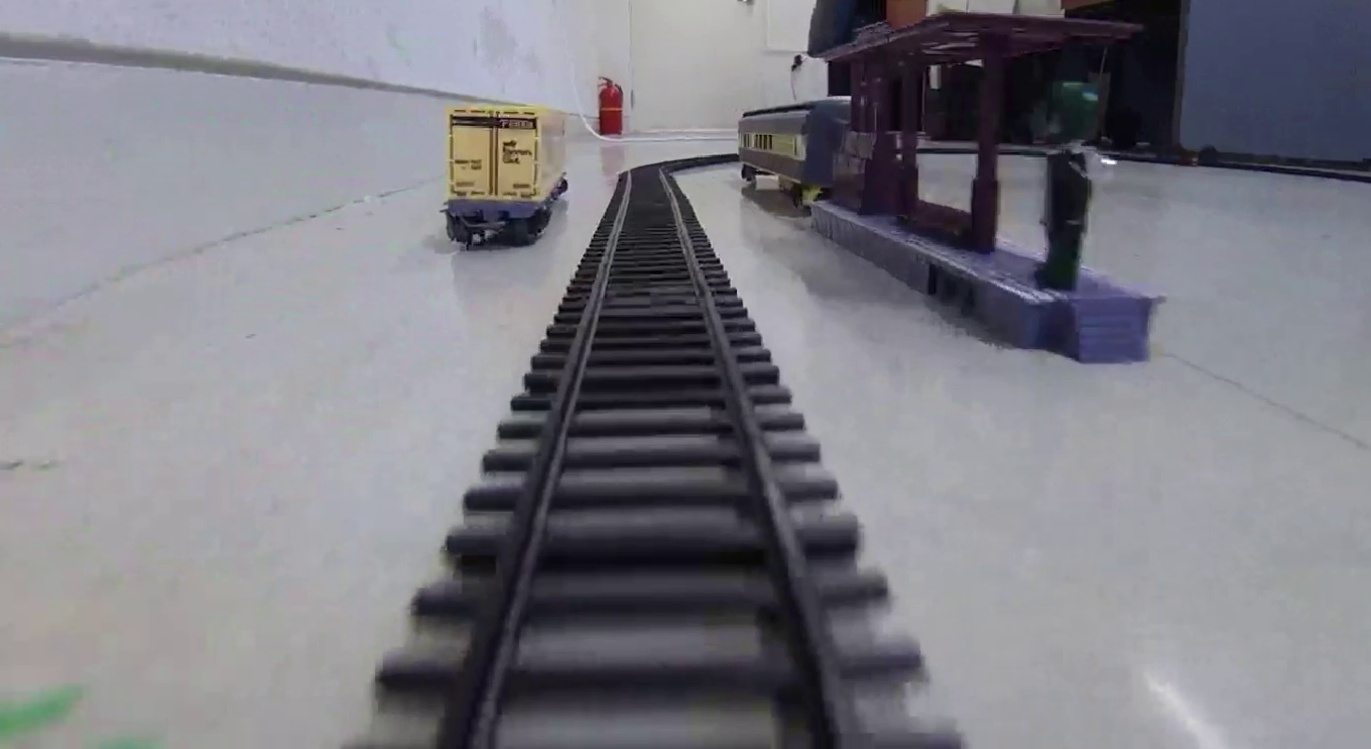people: (1027, 79, 1101, 289)
